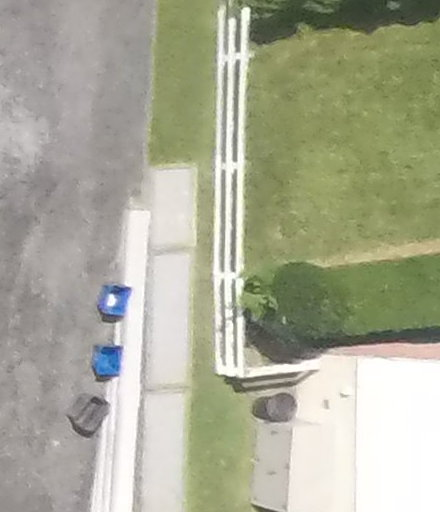fence: (209, 1, 250, 383)
trash bin: (58, 384, 117, 439), (93, 263, 133, 326), (252, 389, 307, 434), (92, 339, 129, 383)
